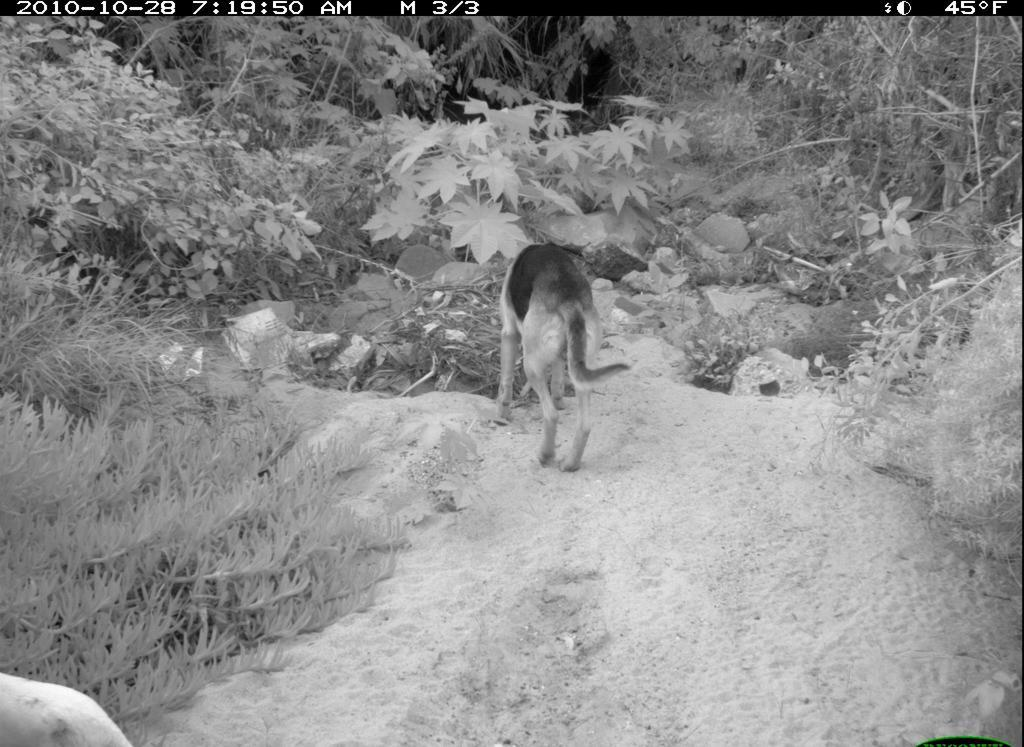dog: (482, 241, 629, 475)
